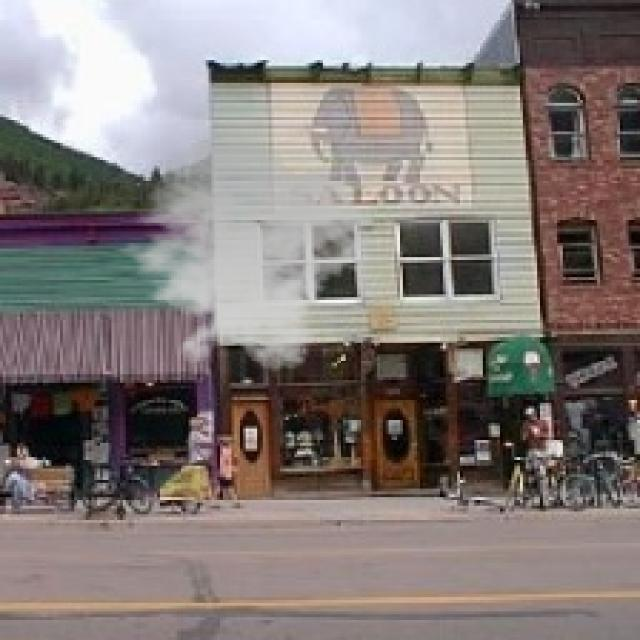Smoke: (102, 134, 378, 372)
